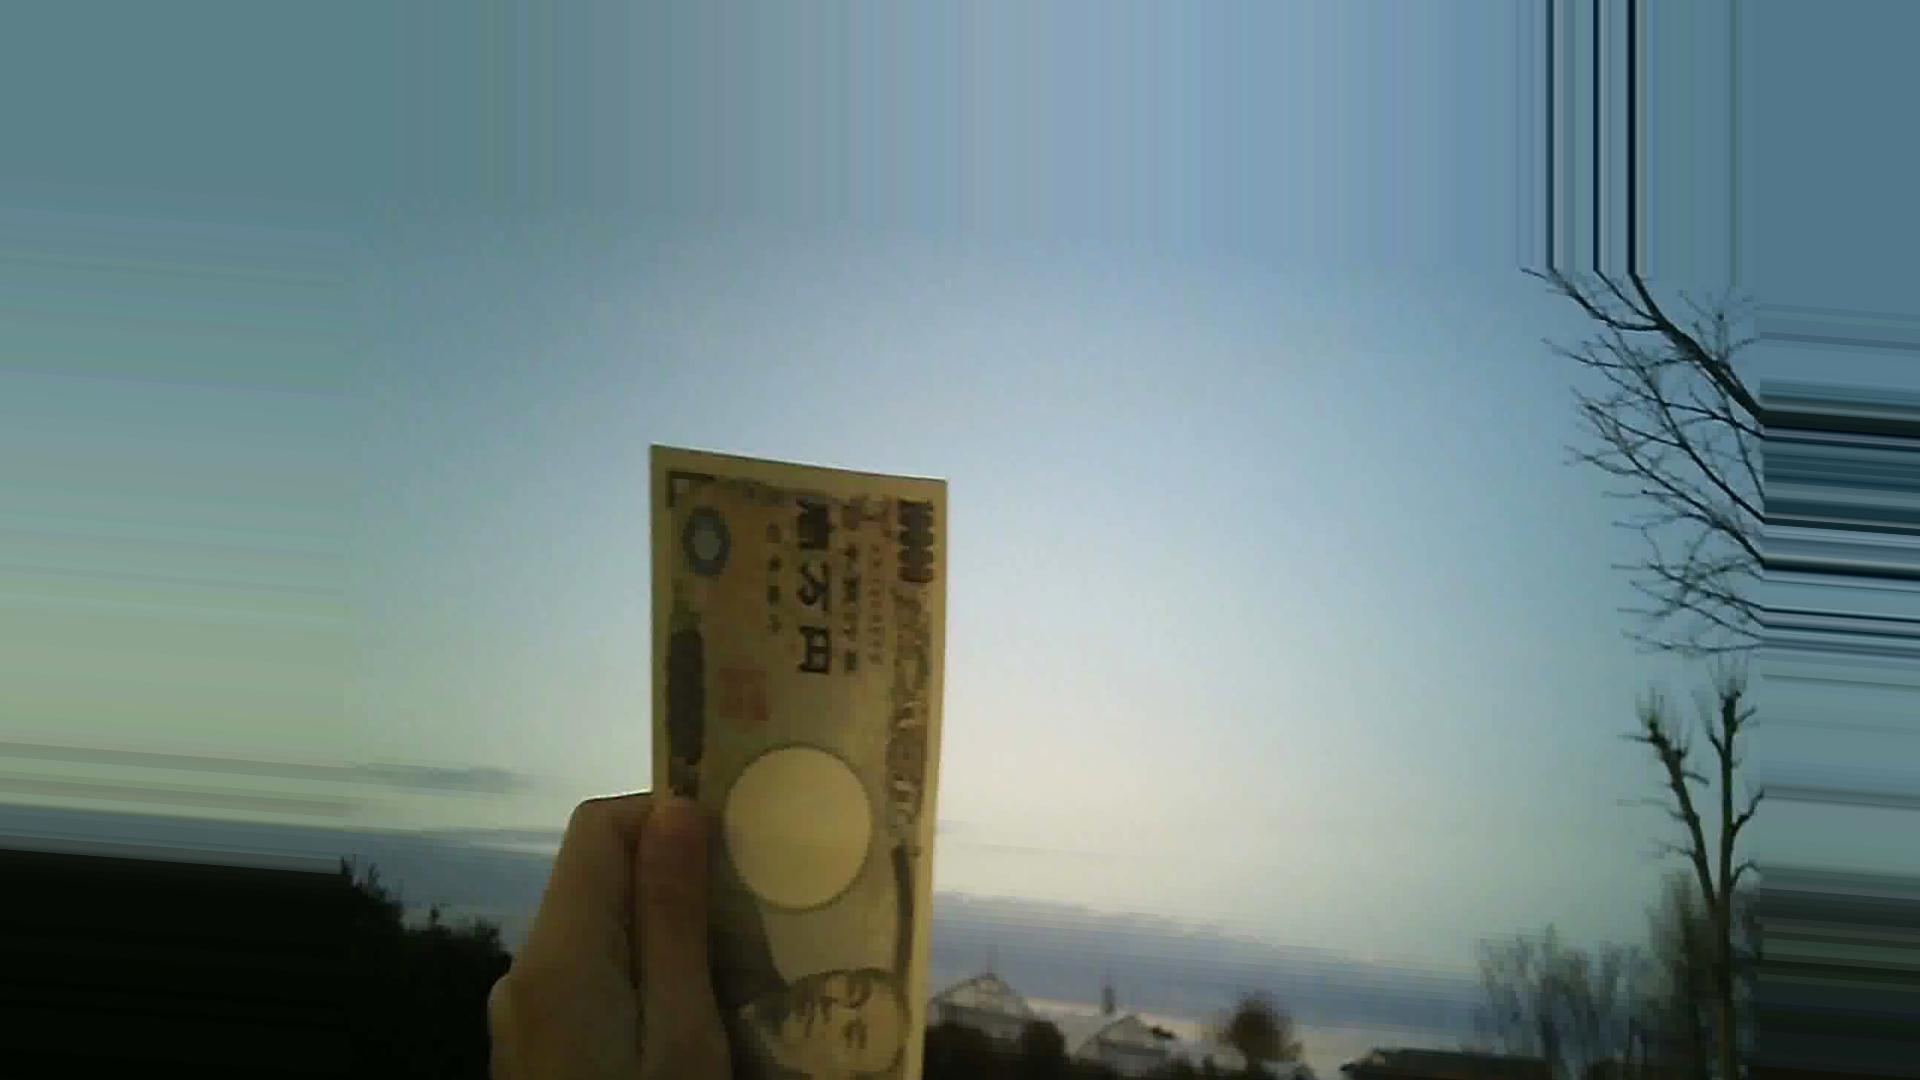10,000 Yen: (592, 419, 971, 1071)
